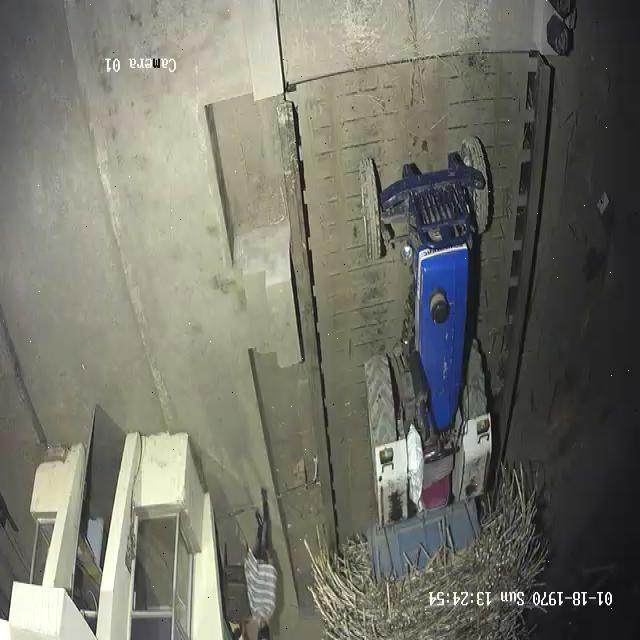Tratores - v5 YOLO V8L 2024-11-13: (350, 133, 510, 548)
